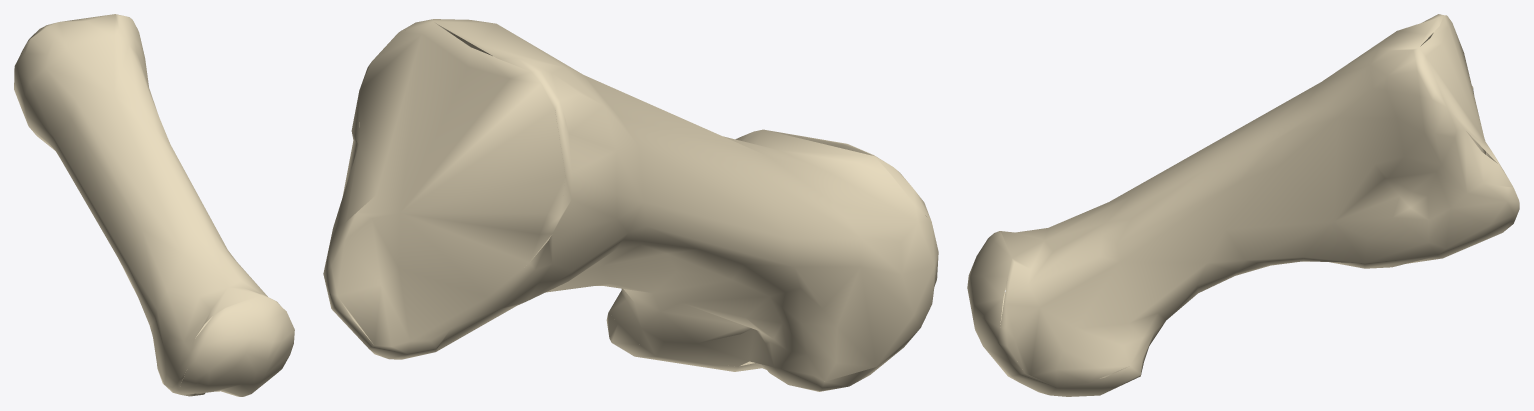
The model's file is esqueleto-first-metatarsal-bone-l.glb.
3 renders of one model, left to right at view 1: azimuth 30°, elevation 25°; view 2: azimuth 150°, elevation 25°; view 3: azimuth 270°, elevation 25°, orthographic. The views are drawn at different scales.
Visible parts, largest first — view 1: First metatarsal bone.l; view 2: First metatarsal bone.l; view 3: First metatarsal bone.l.
Boxes of the visible parts, x1,y1,x2,y2 form: First metatarsal bone.l: (14,14,294,396); First metatarsal bone.l: (323,19,938,391); First metatarsal bone.l: (967,14,1519,396).
Size of the model in its own units: 0.0218 by 0.0449 by 0.0635.
